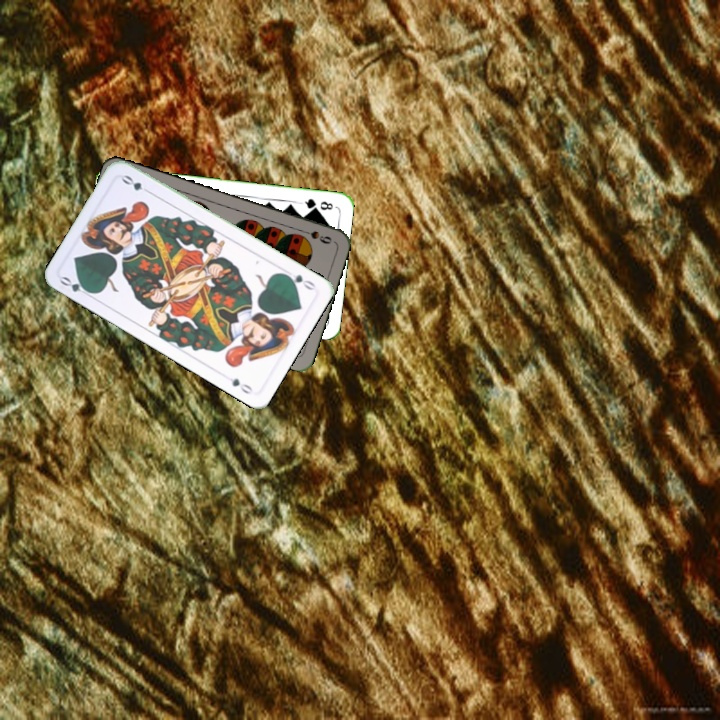G8: (297, 194, 336, 213)
GO: (56, 272, 95, 300), (280, 270, 318, 293)
S9: (295, 225, 334, 247)
